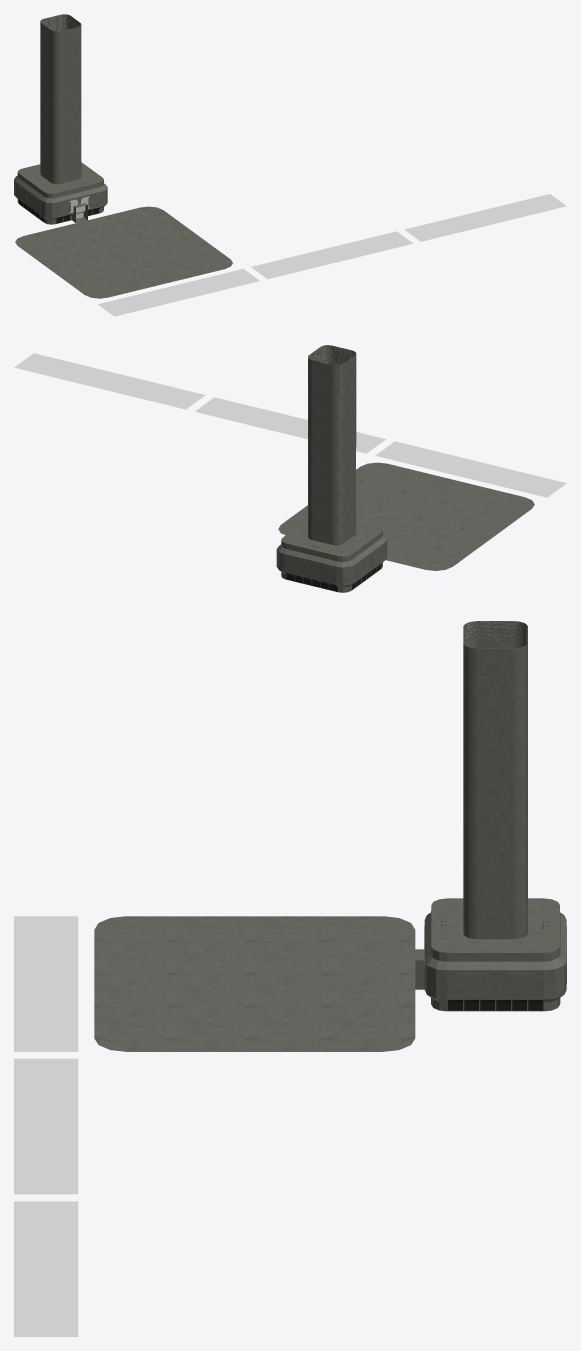
File: Aufzug.fbx
The picture shows the model from 3 angles, top to bottom: view 1: azimuth 30°, elevation 25°; view 2: azimuth 150°, elevation 25°; view 3: azimuth 270°, elevation 25°; orthographic projection. The views are drawn at different scales.
Parts seen in each view (by area): view 1: Aufzug + Lobby, Aufzug, Gang 2, Gang, Gang 3; view 2: Aufzug, Aufzug + Lobby, Gang 3, Gang, Gang 2; view 3: Aufzug + Lobby, Aufzug, Gang 2, Gang, Gang 3.
Part boxes in pixels (bbox=[...]): Aufzug + Lobby: bbox=[15, 206, 232, 298]; Aufzug: bbox=[14, 14, 107, 224]; Gang 2: bbox=[251, 231, 412, 279]; Gang: bbox=[98, 268, 259, 316]; Gang 3: bbox=[404, 194, 566, 241]; Aufzug: bbox=[276, 345, 387, 592]; Aufzug + Lobby: bbox=[278, 462, 534, 570]; Gang 3: bbox=[14, 353, 205, 409]; Gang: bbox=[375, 441, 566, 497]; Gang 2: bbox=[195, 397, 385, 453]; Aufzug + Lobby: bbox=[94, 916, 415, 1051]; Aufzug: bbox=[415, 621, 566, 1011]; Gang 2: bbox=[14, 1058, 78, 1194]; Gang: bbox=[14, 916, 78, 1051]; Gang 3: bbox=[14, 1201, 78, 1336].
Bounding box in the file's own units: 3100 × 1211 × 1722.
